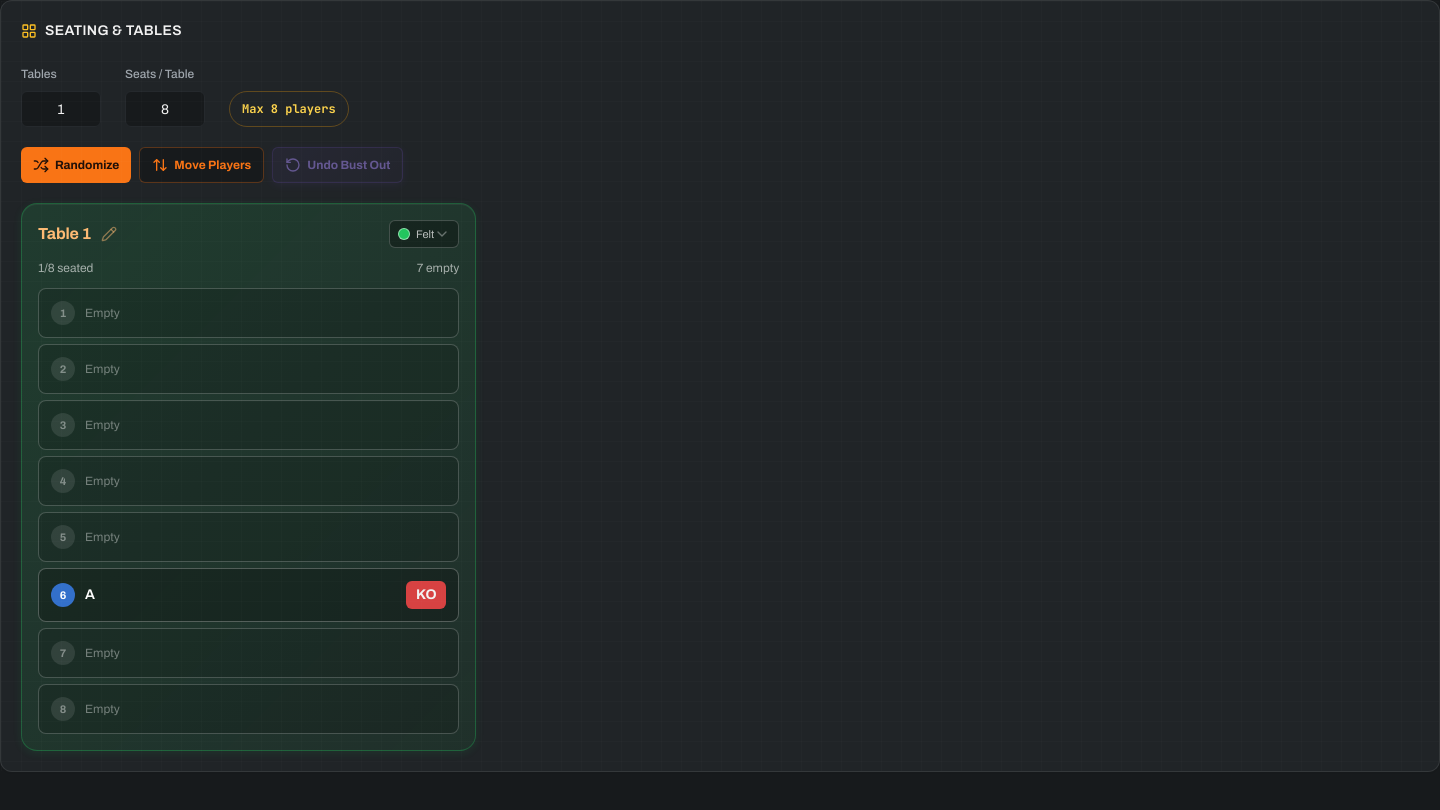
TablesSection › changes nothing on Cancel
This screenshot has width=1440, height=810.
Step 1. Replace the text in the field labelled "Seats / Table" with "4" → coordinates (165, 109), box [125,91,205,127]
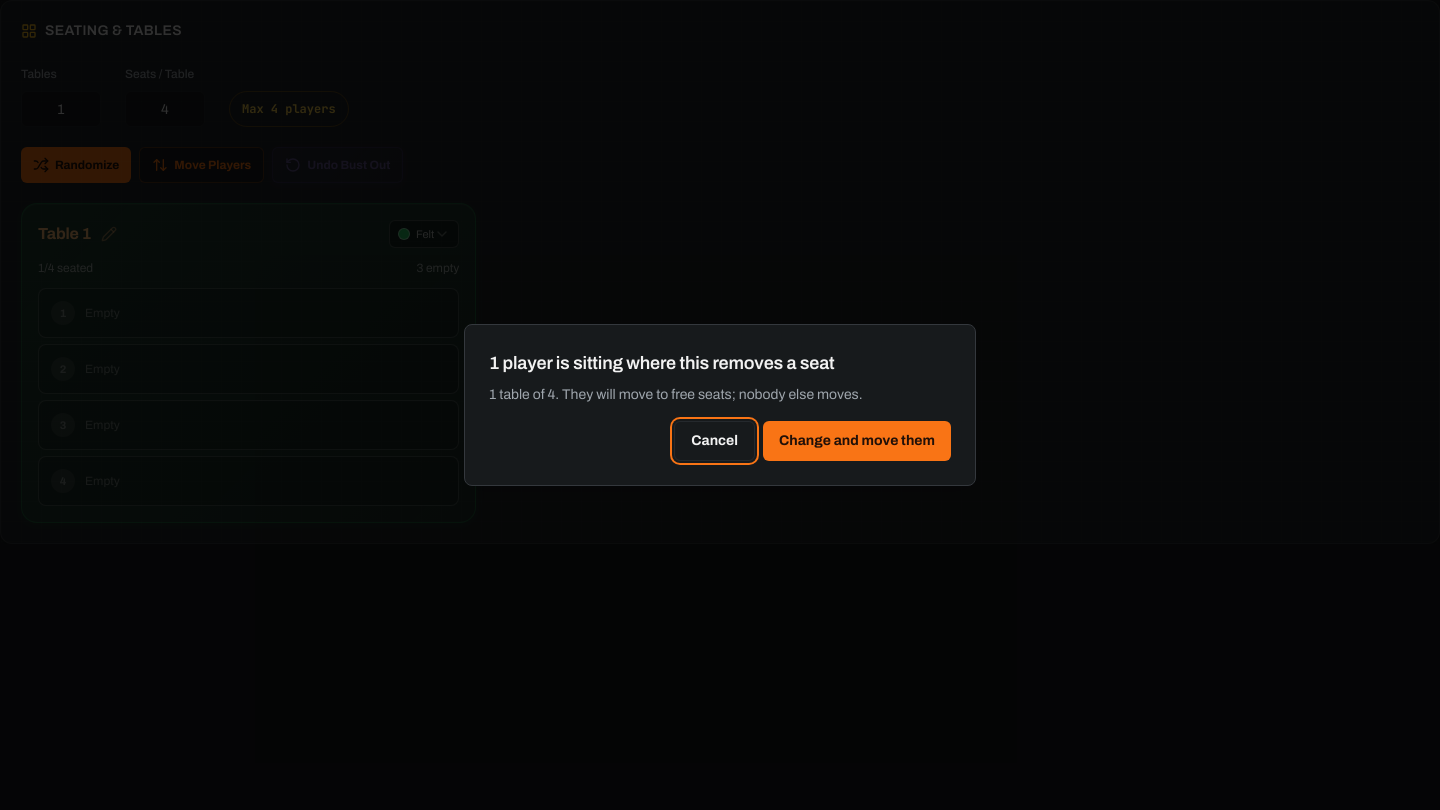
Step 2. Click the button "Cancel" → coordinates (715, 441), box [674,421,755,461]
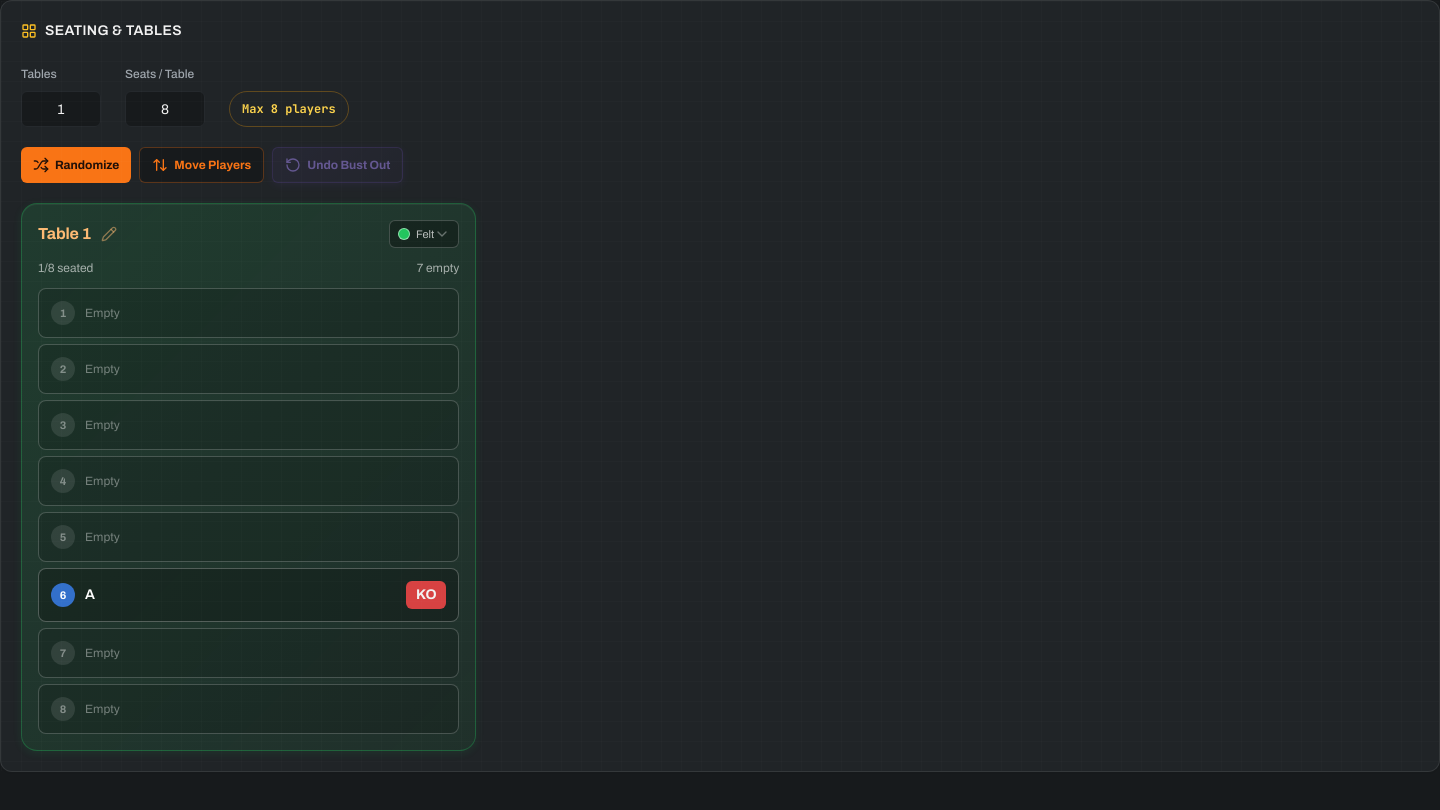
Now the field labelled "Seats / Table" holds "8", box [125,91,205,127]
